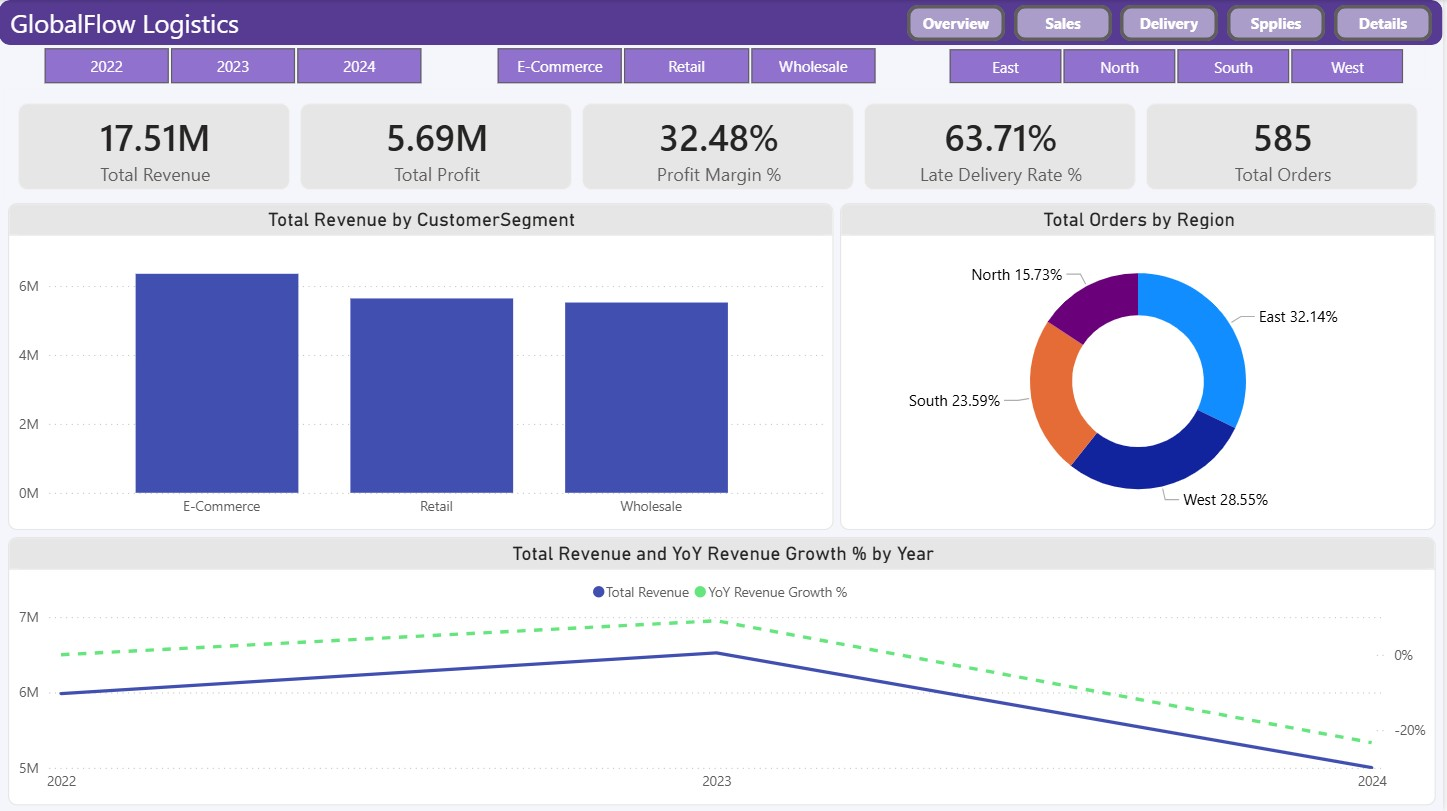

The page's visual inventory and layout, read from the dashboard file:
{"tool":"powerbi","page":{"name":"Overview","canvas":[1280,720],"ordinal":0},"visuals":[{"type":"cardVisual","fields":{"Data":["_Measures.Total Revenue","_Measures.Total Profit","_Measures.Profit Margin %","_Measures.Late Delivery Rate %","_Measures.Total Orders"]},"box":[0,74.5,1280,111.7],"z":0},{"type":"shape","title":"GlobalFlow Logistics","box":[0,0,1280,40],"z":1000},{"type":"lineChart","fields":{"Category":["Calender.Year","Calender.MonthName"],"Y":["_Measures.Total Revenue"],"Y2":["_Measures.YoY Revenue Growth %"]},"box":[8,476.2,1266.2,237.6],"z":2000},{"type":"donutChart","fields":{"Y":["_Measures.Total Orders"],"Category":["Suppliers.Region"]},"box":[745.7,180,528.5,290],"z":3000},{"type":"clusteredColumnChart","fields":{"Y":["_Measures.Total Revenue"],"Category":["Orders.CustomerSegment"]},"box":[8,180,731.5,290],"z":4000},{"type":"slicer","fields":{"Values":["Orders.Year"]},"box":[19.5,41.1,374.2,34.6],"z":5000},{"type":"slicer","fields":{"Values":["Orders.CustomerSegment"]},"box":[421.2,41.1,375.1,34.6],"z":6000},{"type":"slicer","fields":{"Values":["Orders.Region"]},"box":[822,41.7,442.5,34],"z":7000},{"type":"actionButton","box":[805.1,4.4,86.9,31.9],"z":8000},{"type":"actionButton","box":[899.7,4.4,86.9,31.9],"z":9000},{"type":"actionButton","box":[994.3,4.4,86.9,31.9],"z":10000},{"type":"actionButton","box":[1088.9,4.4,86.9,31.9],"z":11000},{"type":"actionButton","box":[1183.7,4.4,86.9,31.9],"z":12000}]}

Visuals, with their boxes in screenshot pixels (x1, y1, x2, y2), scaled from the page's 1280x720 canvas onto the 1447x811 screenshot:
cardVisual - _Measures.Total Revenue x _Measures.Total Profit: x1=0, y1=84, x2=1446, y2=210
"GlobalFlow Logistics" shape: x1=0, y1=0, x2=1446, y2=45
lineChart - Calender.Year x Calender.MonthName: x1=9, y1=536, x2=1440, y2=804
donutChart - _Measures.Total Orders x Suppliers.Region: x1=843, y1=203, x2=1440, y2=529
clusteredColumnChart - _Measures.Total Revenue x Orders.CustomerSegment: x1=9, y1=203, x2=836, y2=529
slicer - Orders.Year: x1=22, y1=46, x2=445, y2=85
slicer - Orders.CustomerSegment: x1=476, y1=46, x2=900, y2=85
slicer - Orders.Region: x1=929, y1=47, x2=1429, y2=85
actionButton: x1=910, y1=5, x2=1008, y2=41
actionButton: x1=1017, y1=5, x2=1115, y2=41
actionButton: x1=1124, y1=5, x2=1222, y2=41
actionButton: x1=1231, y1=5, x2=1329, y2=41
actionButton: x1=1338, y1=5, x2=1436, y2=41
